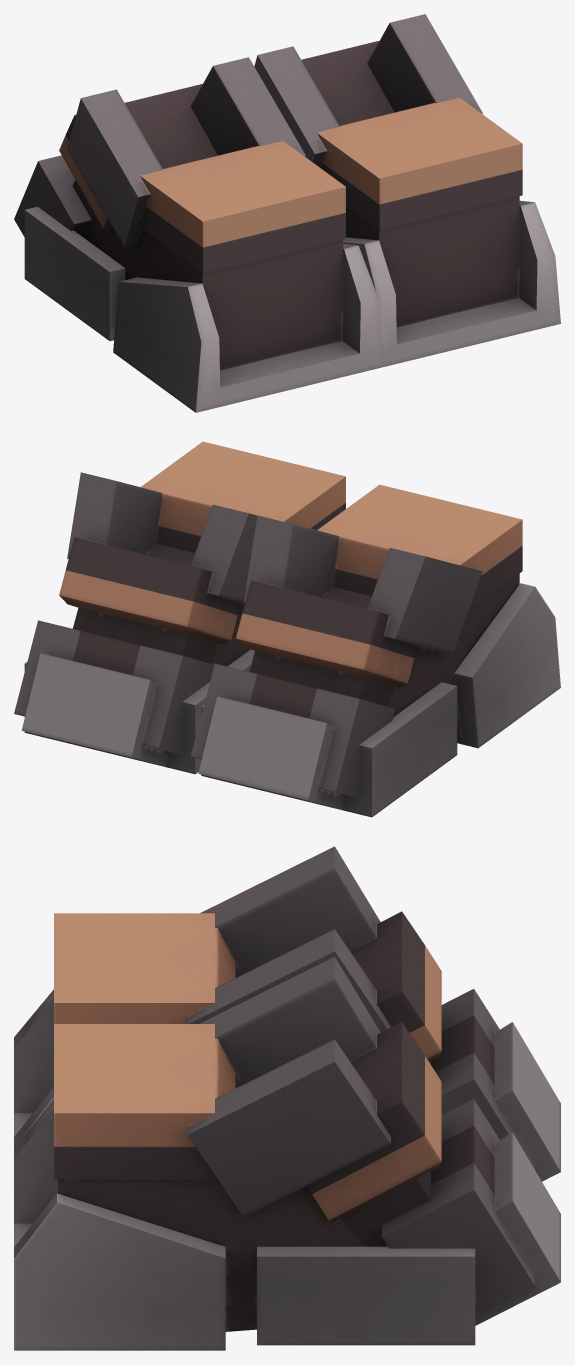
The model's file is D31_SHOE_xiezi6_1.FBX.
3 views of the same model, one above another, from view 1: azimuth 30°, elevation 25°; view 2: azimuth 150°, elevation 25°; view 3: azimuth 270°, elevation 25° (orthographic). The views are drawn at different scales.
Parts seen in each view (by area): view 1: D31_SHOE_xiezi6_1; view 2: D31_SHOE_xiezi6_1; view 3: D31_SHOE_xiezi6_1.
Part boxes in pixels (x1,y1,x2,y2): D31_SHOE_xiezi6_1: (14, 14, 560, 412); D31_SHOE_xiezi6_1: (14, 441, 560, 817); D31_SHOE_xiezi6_1: (14, 846, 560, 1350).
Size of the model in its own units: 66.67 by 38.49 by 67.51.
